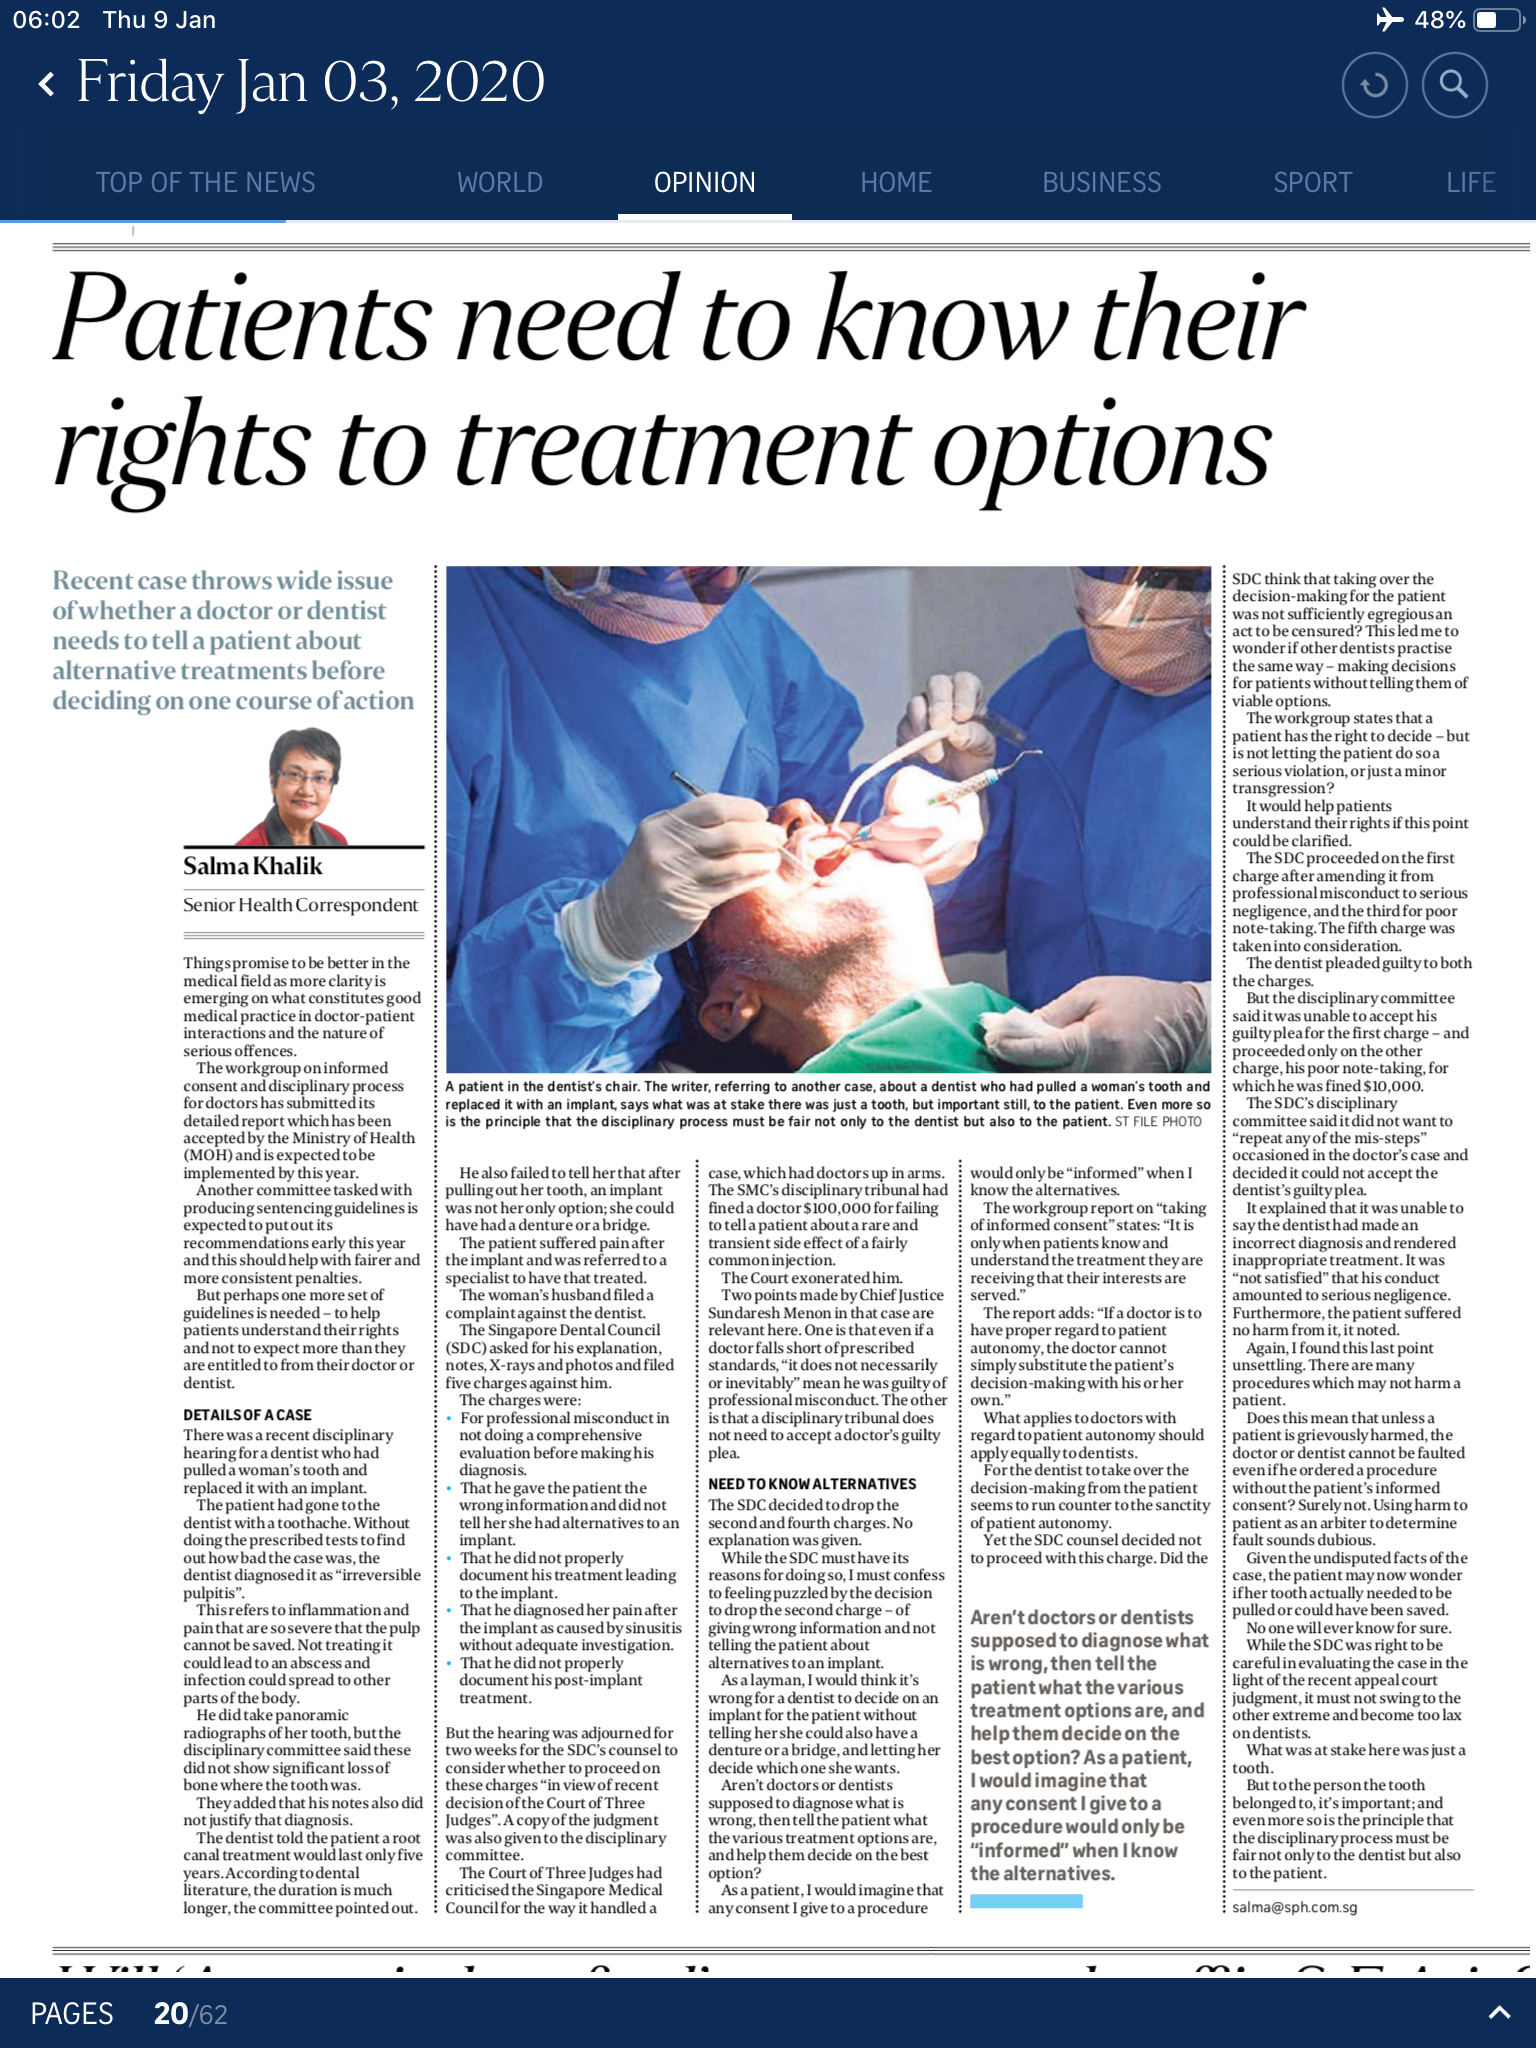Byline: (181, 851, 429, 918)
Headline: (45, 253, 1328, 524), (703, 1471, 923, 1493), (174, 1401, 319, 1426)
Illustration: (440, 1072, 1221, 1138)
Image: (447, 568, 1213, 1076), (219, 721, 357, 848)
Text: (1225, 560, 1494, 1890), (440, 1164, 678, 1922), (177, 1421, 426, 1925), (174, 945, 428, 1398), (702, 1492, 954, 1925), (966, 1163, 1220, 1572), (705, 1159, 950, 1463), (966, 1605, 1215, 1890), (44, 563, 428, 719)
